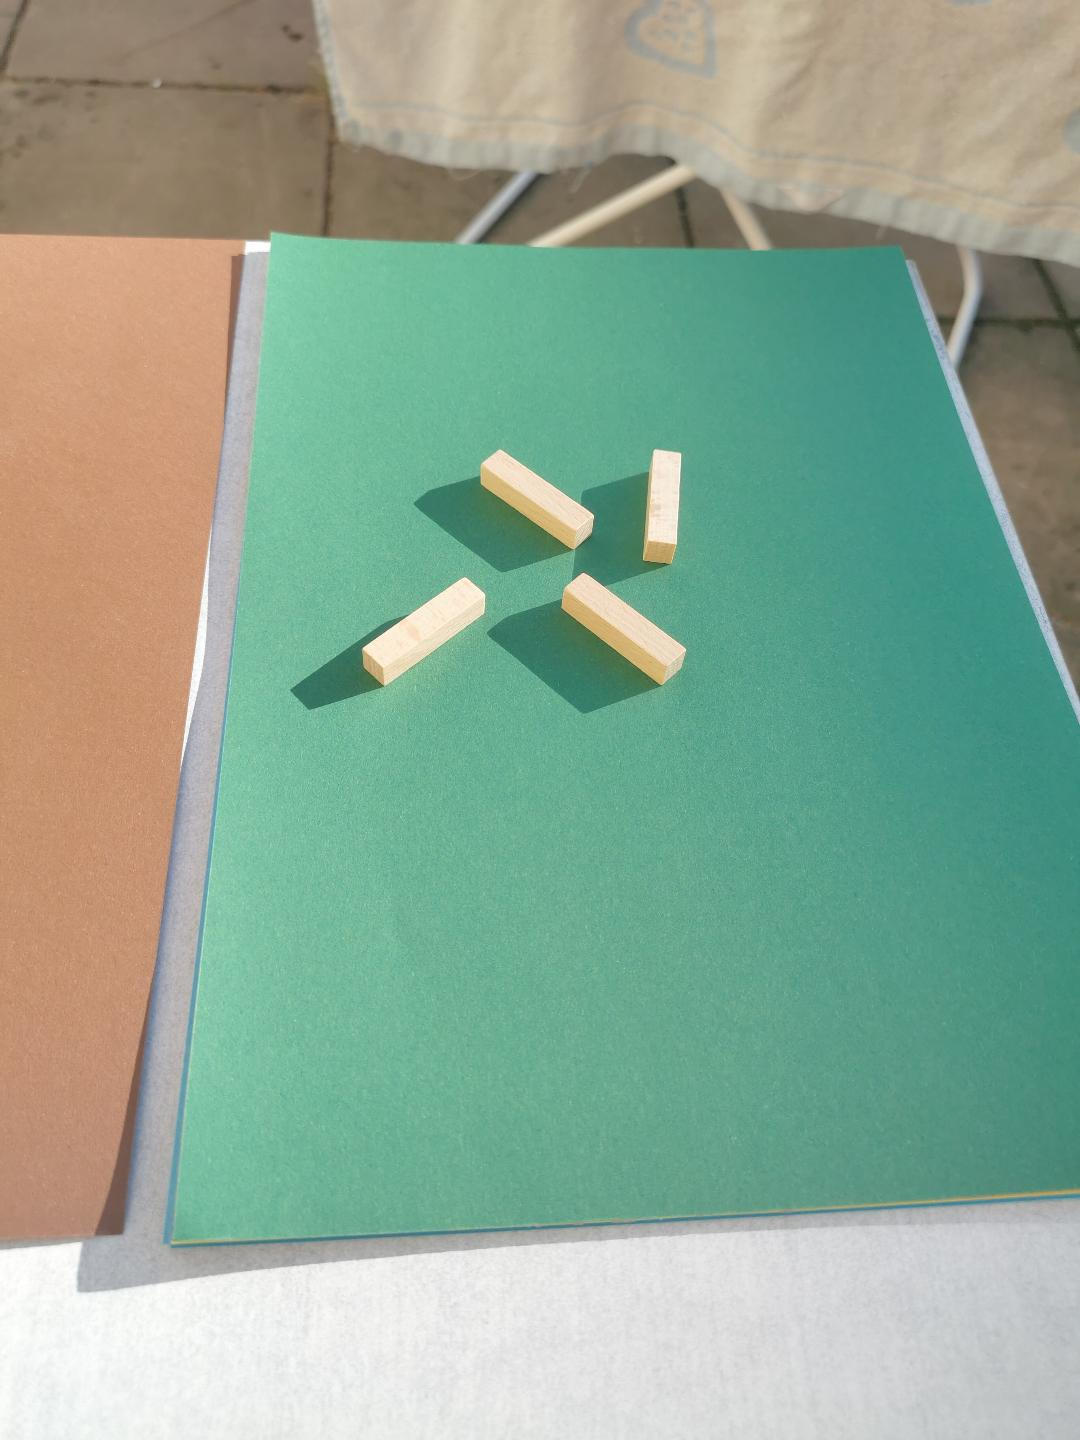jenga: (563, 574, 686, 684), (363, 576, 487, 684), (481, 450, 593, 549), (644, 450, 681, 562)
